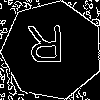R: (27, 25, 65, 72)
